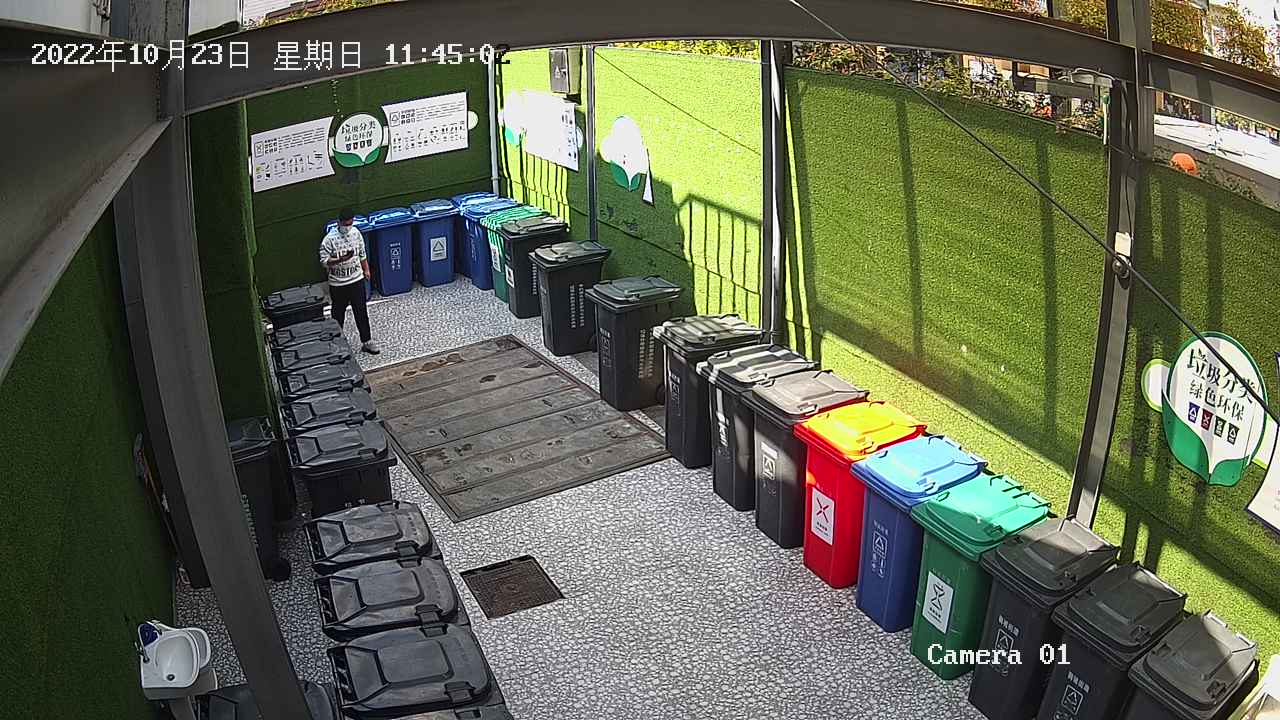person: (315, 204, 384, 361)
